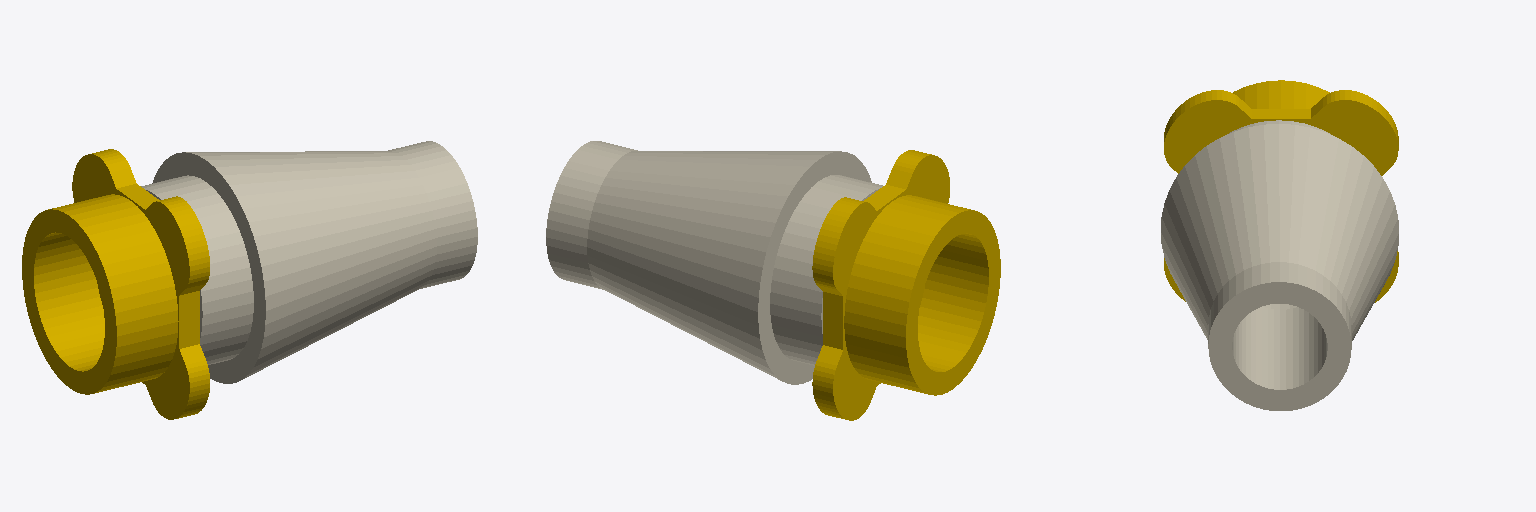
Rendered from base_projectile.obj.
3 renders of one model, left to right at view 1: azimuth 30°, elevation 25°; view 2: azimuth 150°, elevation 25°; view 3: azimuth 270°, elevation 25°, orthographic.
Parts seen in each view (by area): view 1: Inner-Node-base__projectile_dot_io-1.001; view 2: Inner-Node-base__projectile_dot_io-1.001; view 3: Inner-Node-base__projectile_dot_io-1.001.
Boxes of the visible parts, x1,y1,x2,y2 form: Inner-Node-base__projectile_dot_io-1.001: [22, 141, 477, 419]; Inner-Node-base__projectile_dot_io-1.001: [546, 141, 1000, 420]; Inner-Node-base__projectile_dot_io-1.001: [1161, 80, 1398, 410].
Bounding box in the file's own units: 0.0905 × 0.0502 × 0.0503.